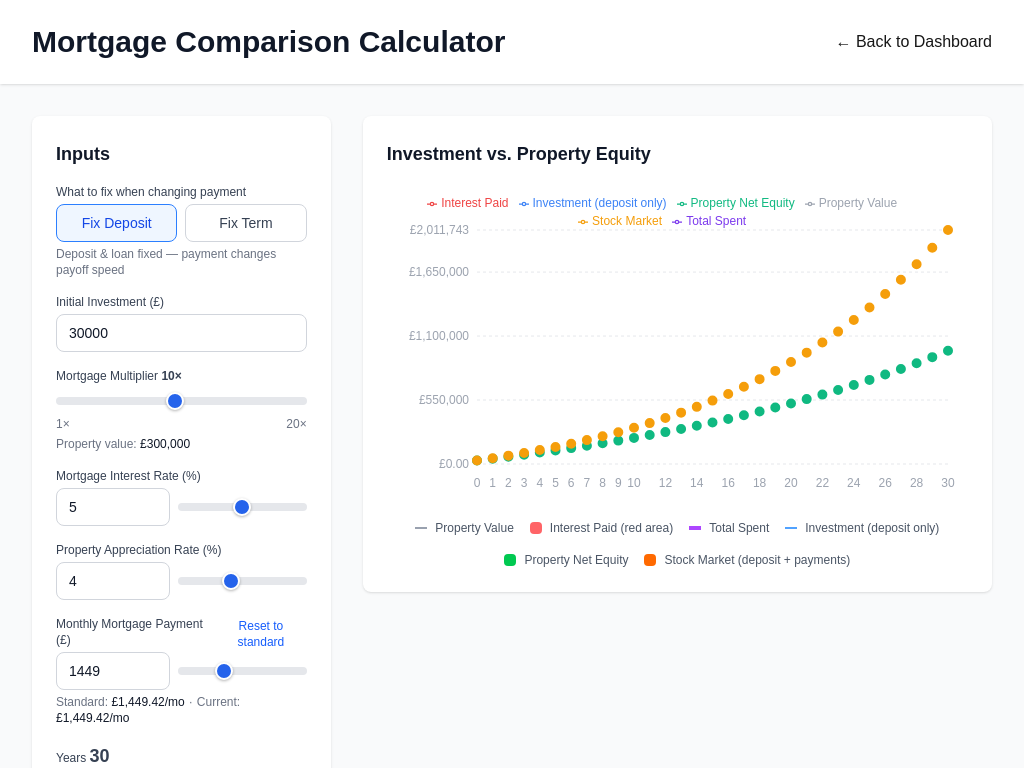
Test case: MortgageComparisonCalculator component › switches to Fix Term mode and shows Property Value input label
Step 1. Click the button "Fix Term" → (246, 223), box [185,204,307,242]
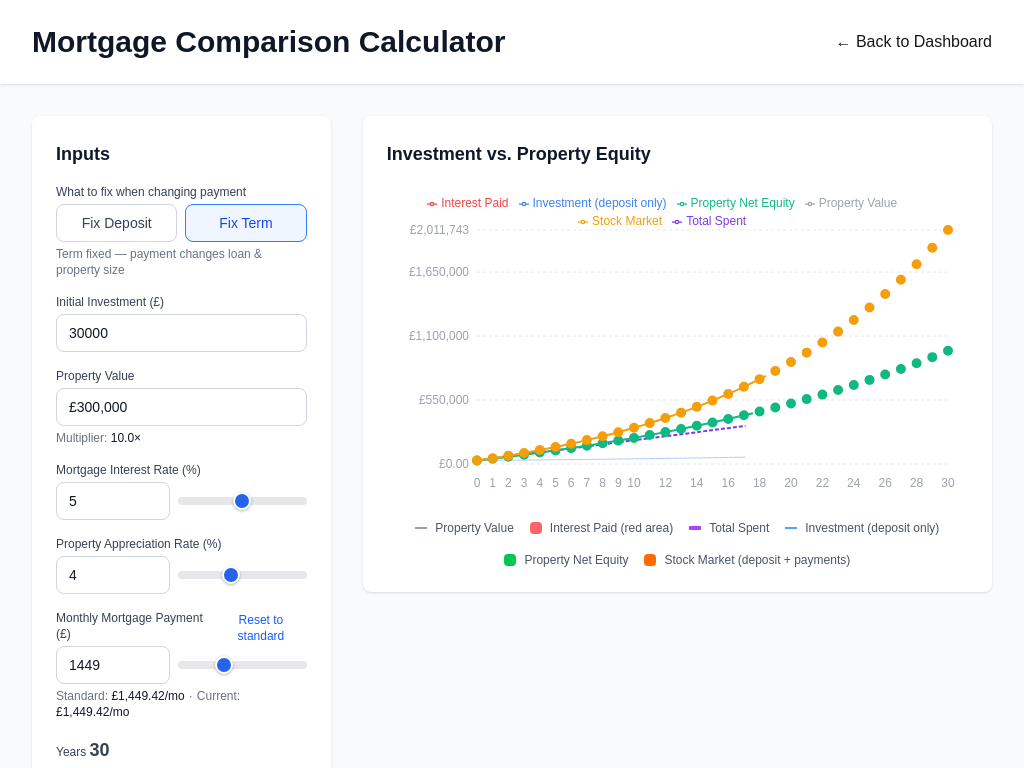
Now the text "Mortgage Multiplier" is gone
